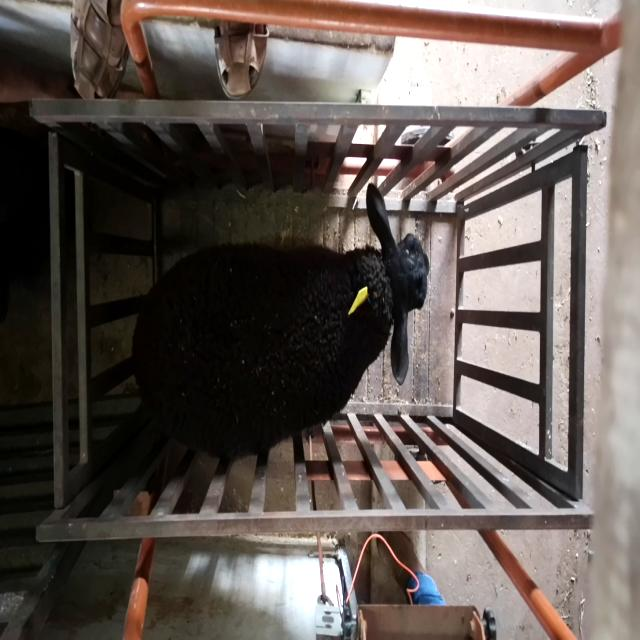sheep: (132, 183, 431, 460)
